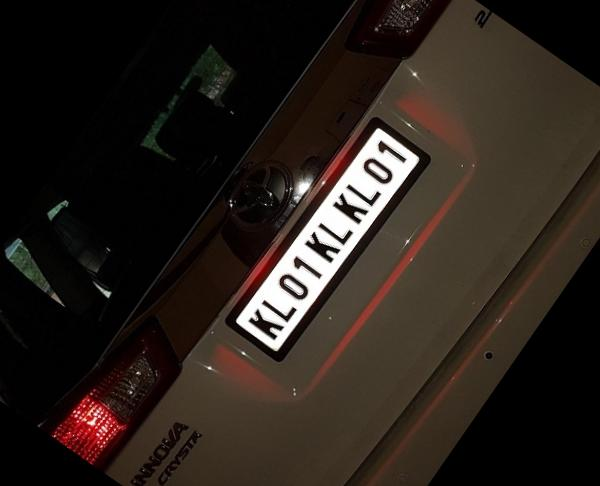plate: (213, 100, 452, 383)
